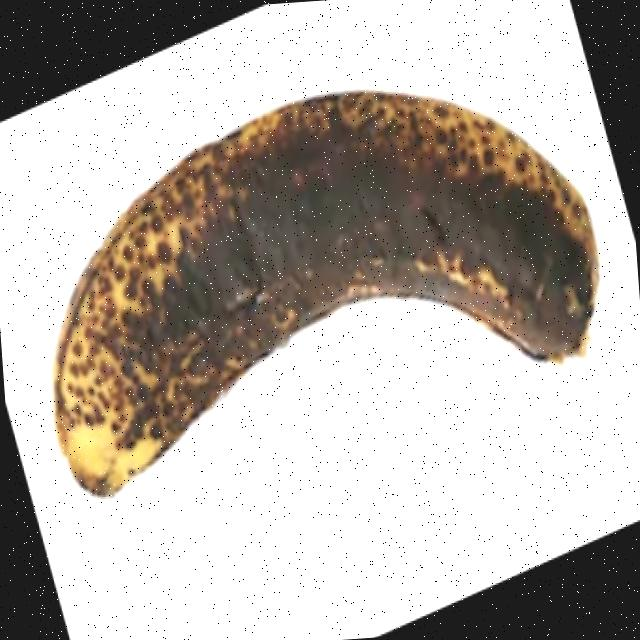Rotten: (34, 71, 616, 504)
